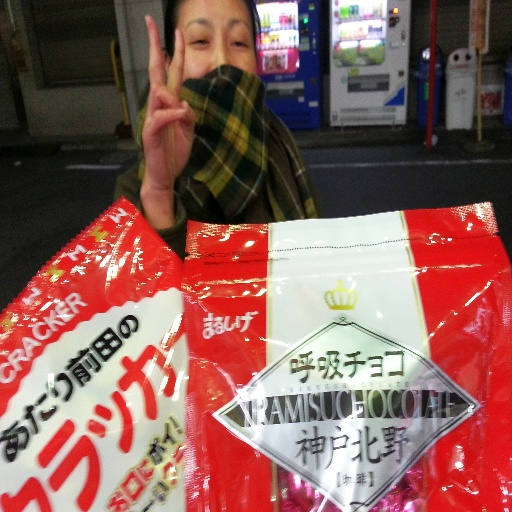hand: (132, 18, 196, 217)
